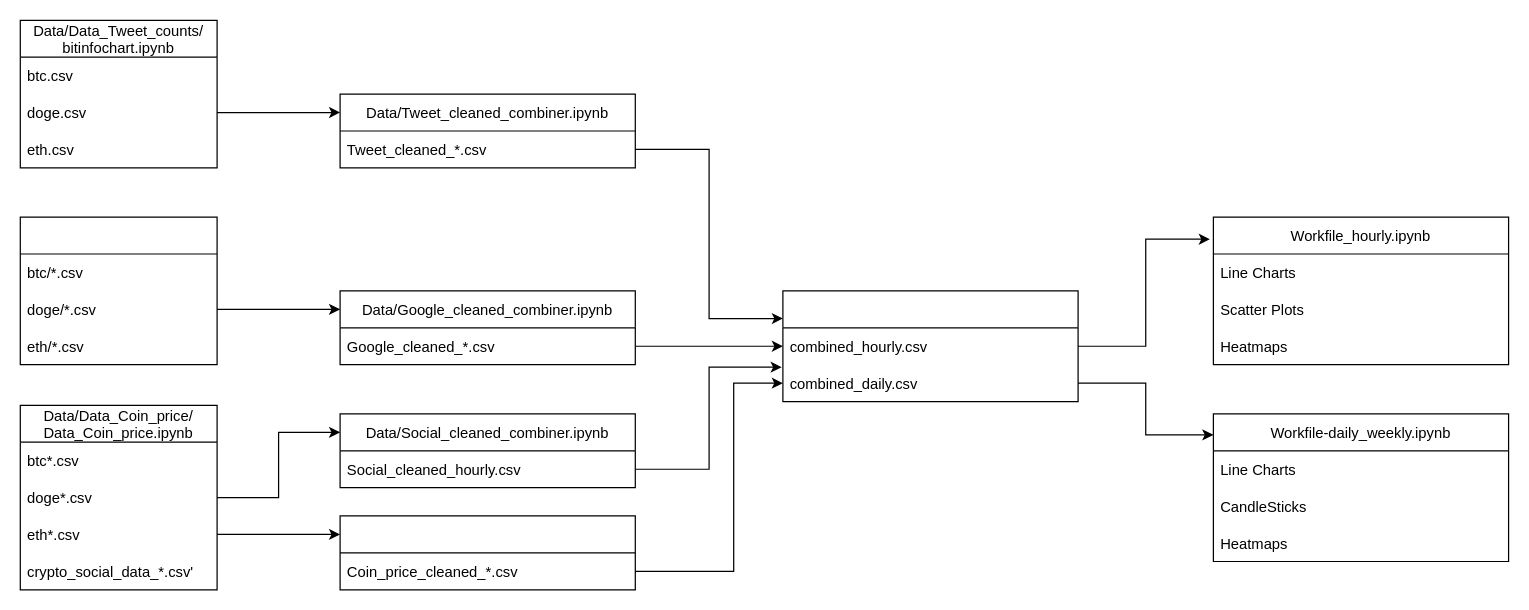
Some shapes in this 1529 by 610 pixel diagram are drawn without their labels. The box of each missing label's shape, as (x1, y1, x2, y2) in pixels:
Data/Coin_price_cleaned_combiner.ipynb: (339, 515, 635, 590)
Data/combined_daily_csv_combiner.ipynb: (782, 290, 1078, 402)
Data/Data_Google_trends/ csv_generator.ipnb: (19, 216, 217, 365)
